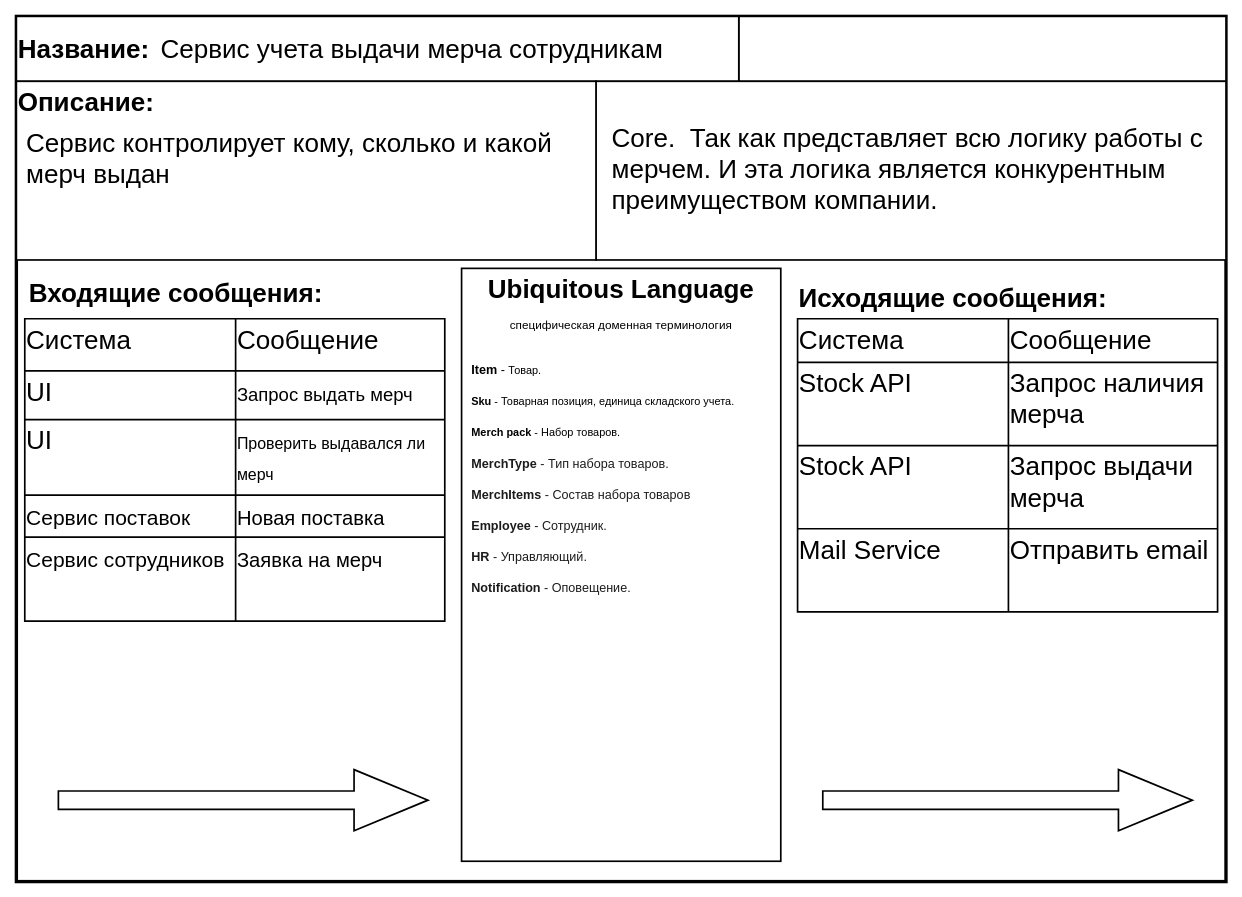
Image size: 1242x897. Some labels were removed from this diagram. Each missing label, with the box of its shape:
Bouneded context canvas: (738, 15, 1226, 82)
Стратегическая классификация:: (595, 80, 1226, 260)
